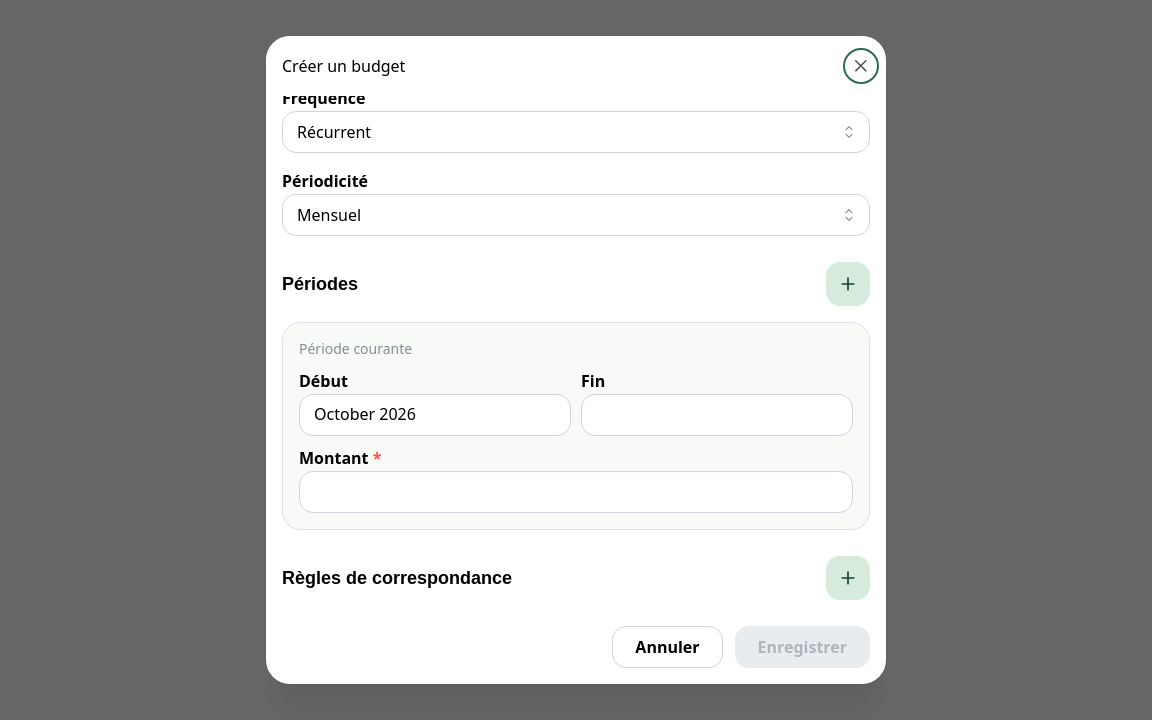
Test: BudgetModal › renders add rule button and adds a rule
(page scrolled)
Click the button named "Ajouter une règle". click: (848, 578)
box: [826,556,870,600]
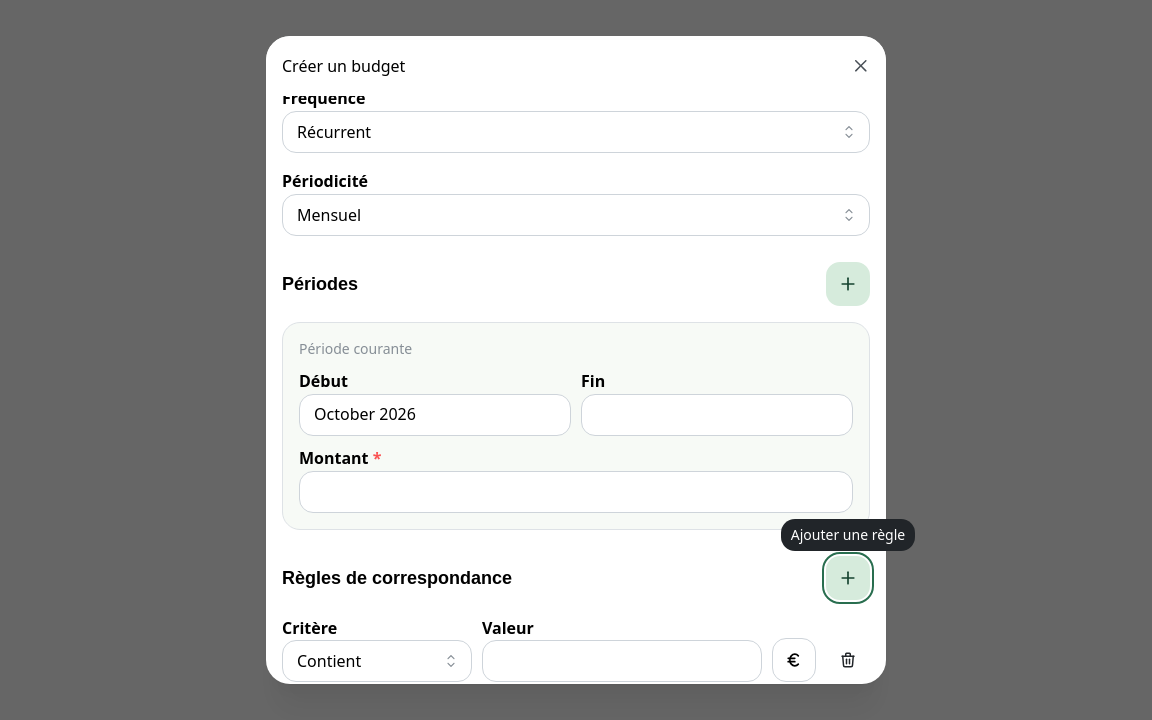
Expected: the text "Critère" is shown, [282,616,337,640]
Expected: the text "Valeur" is shown, [482,616,534,640]
